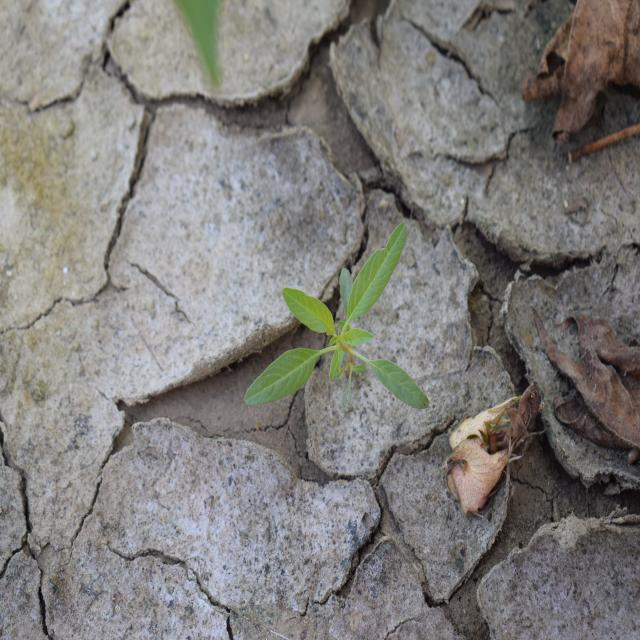Waterhemp: (243, 221, 430, 411)
